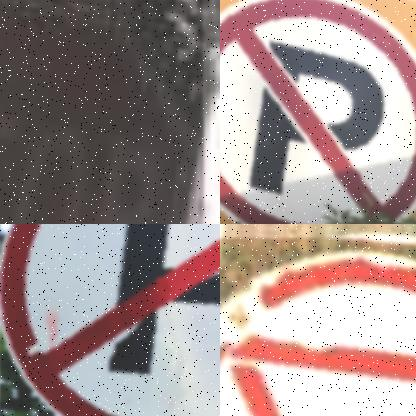Give Way: (220, 238, 416, 416)
No Parking: (220, 0, 416, 224), (0, 224, 220, 416)
